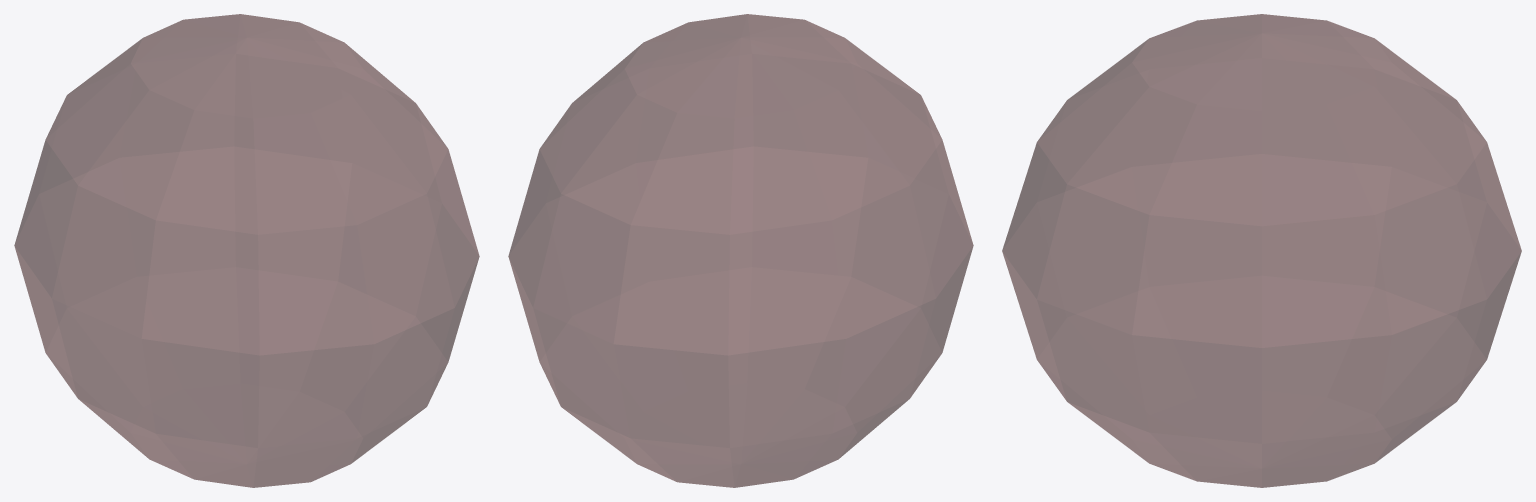
The model's file is EatenDarkLowRight.fbx.
The picture shows the model from 3 angles, left to right: view 1: azimuth 30°, elevation 25°; view 2: azimuth 150°, elevation 25°; view 3: azimuth 270°, elevation 25°; orthographic projection. The views are drawn at different scales.
Parts seen in each view (by area): view 1: pSphere3; view 2: pSphere3; view 3: pSphere3.
Part boxes in pixels (left/top/right/bottom): pSphere3: left=14, top=14, right=479, bottom=487; pSphere3: left=508, top=14, right=973, bottom=487; pSphere3: left=1002, top=14, right=1521, bottom=487.
Size of the model in its own units: 5.9 by 6.17 by 6.68.
